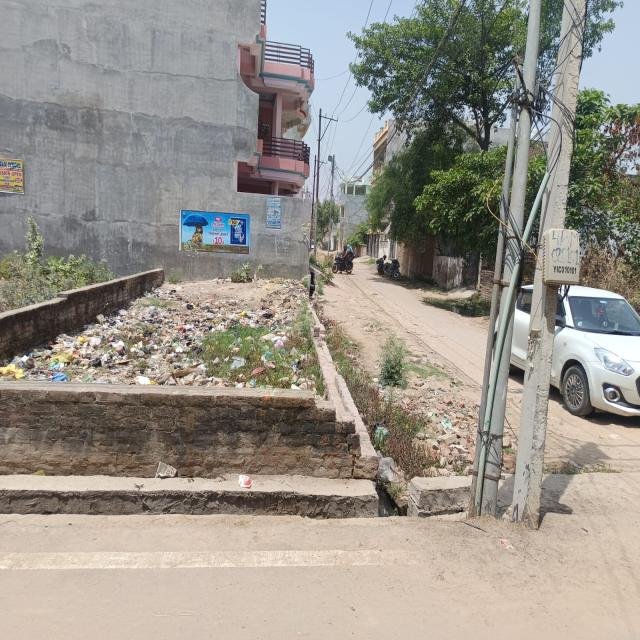Garbage: (0, 292, 219, 384)
